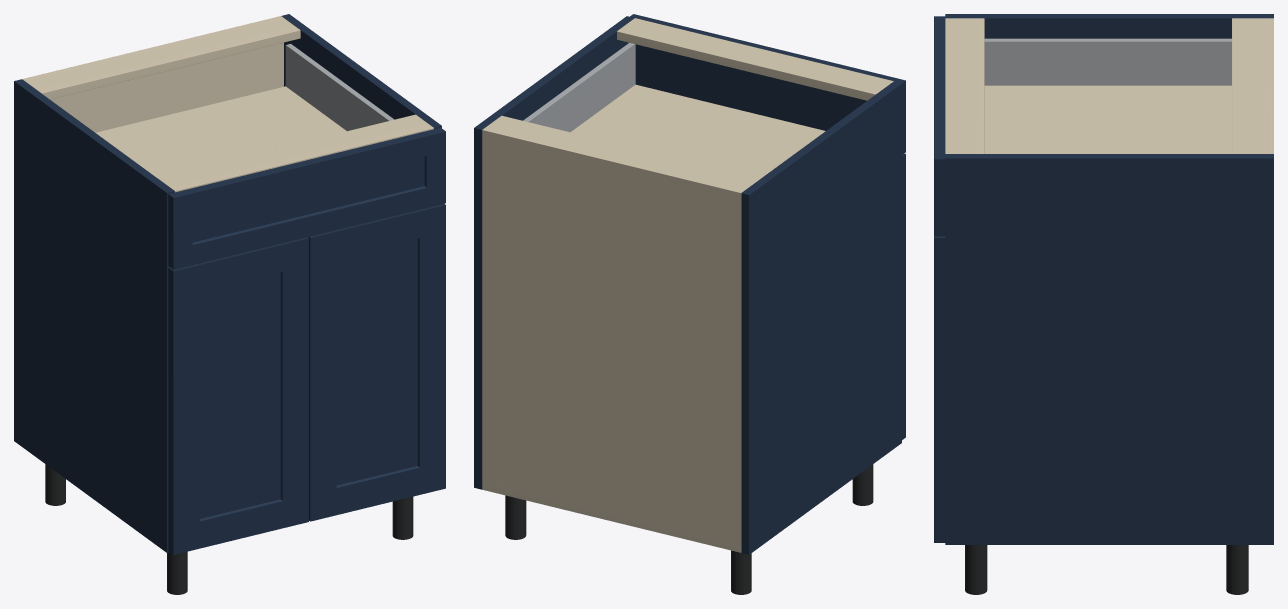
File: oppein-ply-bss-b24.glb
3 views of the same model, side by side, from view 1: azimuth 30°, elevation 25°; view 2: azimuth 150°, elevation 25°; view 3: azimuth 270°, elevation 25° (orthographic). The views are drawn at different scales.
Visible parts, largest first — view 1: Cabinet side, Door, Door.001, Drawer front, Drawer floor, Cabinet back, Top support rail, Top support rail.001, Drawer side.001, Cabinet side.001, Adjustable foot.003, Adjustable foot.001 (+1 smaller); view 2: Cabinet back, Cabinet side, Drawer floor, Drawer front, Top support rail.001, Cabinet side.001, Top support rail, Drawer side.001, Cabinet bottom, Door, Adjustable foot.002, Adjustable foot (+1 smaller); view 3: Cabinet side.001, Drawer floor, Drawer side, Cabinet side, Top support rail.001, Top support rail, Door.001, Drawer front, Adjustable foot.002, Adjustable foot.003, Cabinet back.
Part boxes in pixels (left/top/right/bottom): Cabinet side: left=14, top=79, right=174, bottom=552; Door: left=168, top=237, right=308, bottom=554; Door.001: left=307, top=203, right=445, bottom=521; Drawer front: left=168, top=127, right=445, bottom=269; Drawer floor: left=95, top=86, right=346, bottom=177; Cabinet back: left=22, top=16, right=283, bottom=132; Top support rail: left=24, top=18, right=300, bottom=99; Top support rail.001: left=157, top=114, right=433, bottom=192; Drawer side.001: left=285, top=44, right=393, bottom=131; Cabinet side.001: left=281, top=14, right=441, bottom=128; Adjustable foot.003: left=392, top=496, right=413, bottom=539; Adjustable foot.001: left=167, top=551, right=187, bottom=594; Cabinet back: left=482, top=127, right=743, bottom=552; Cabinet side: left=741, top=81, right=901, bottom=554; Drawer floor: left=570, top=84, right=825, bottom=178; Drawer front: left=630, top=14, right=905, bottom=154; Top support rail.001: left=617, top=18, right=893, bottom=100; Cabinet side.001: left=474, top=16, right=634, bottom=489; Top support rail: left=486, top=115, right=759, bottom=191; Drawer side.001: left=523, top=43, right=635, bottom=132; Cabinet bottom: left=482, top=481, right=740, bottom=552; Door: left=902, top=153, right=905, bottom=439; Adjustable foot.002: left=505, top=495, right=526, bottom=539; Adjustable foot: left=731, top=550, right=751, bottom=594; Cabinet side.001: left=945, top=154, right=1273, bottom=544; Drawer floor: left=984, top=85, right=1231, bottom=153; Drawer side: left=984, top=38, right=1231, bottom=85; Cabinet side: left=945, top=14, right=1273, bottom=38; Top support rail.001: left=945, top=18, right=984, bottom=153; Top support rail: left=1232, top=18, right=1267, bottom=153; Door.001: left=934, top=236, right=945, bottom=542; Drawer front: left=934, top=16, right=945, bottom=236; Adjustable foot.002: left=1226, top=545, right=1248, bottom=594; Adjustable foot.003: left=965, top=545, right=987, bottom=594; Cabinet back: left=1267, top=18, right=1273, bottom=153.
Bounding box in the file's own units: 0.6096 × 0.8763 × 0.6064.
